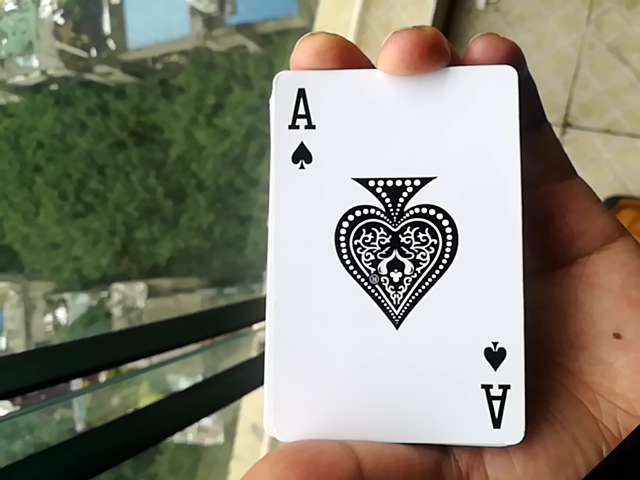ht a: (242, 78, 525, 455)
